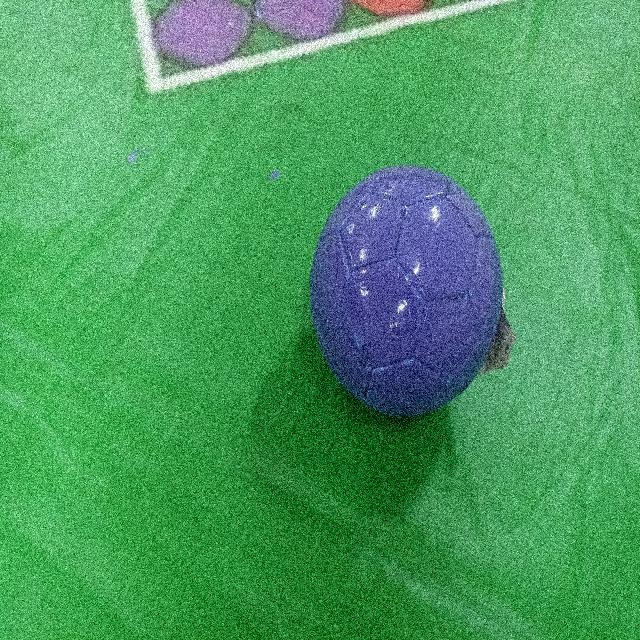purple_ball: (313, 157, 505, 438)
